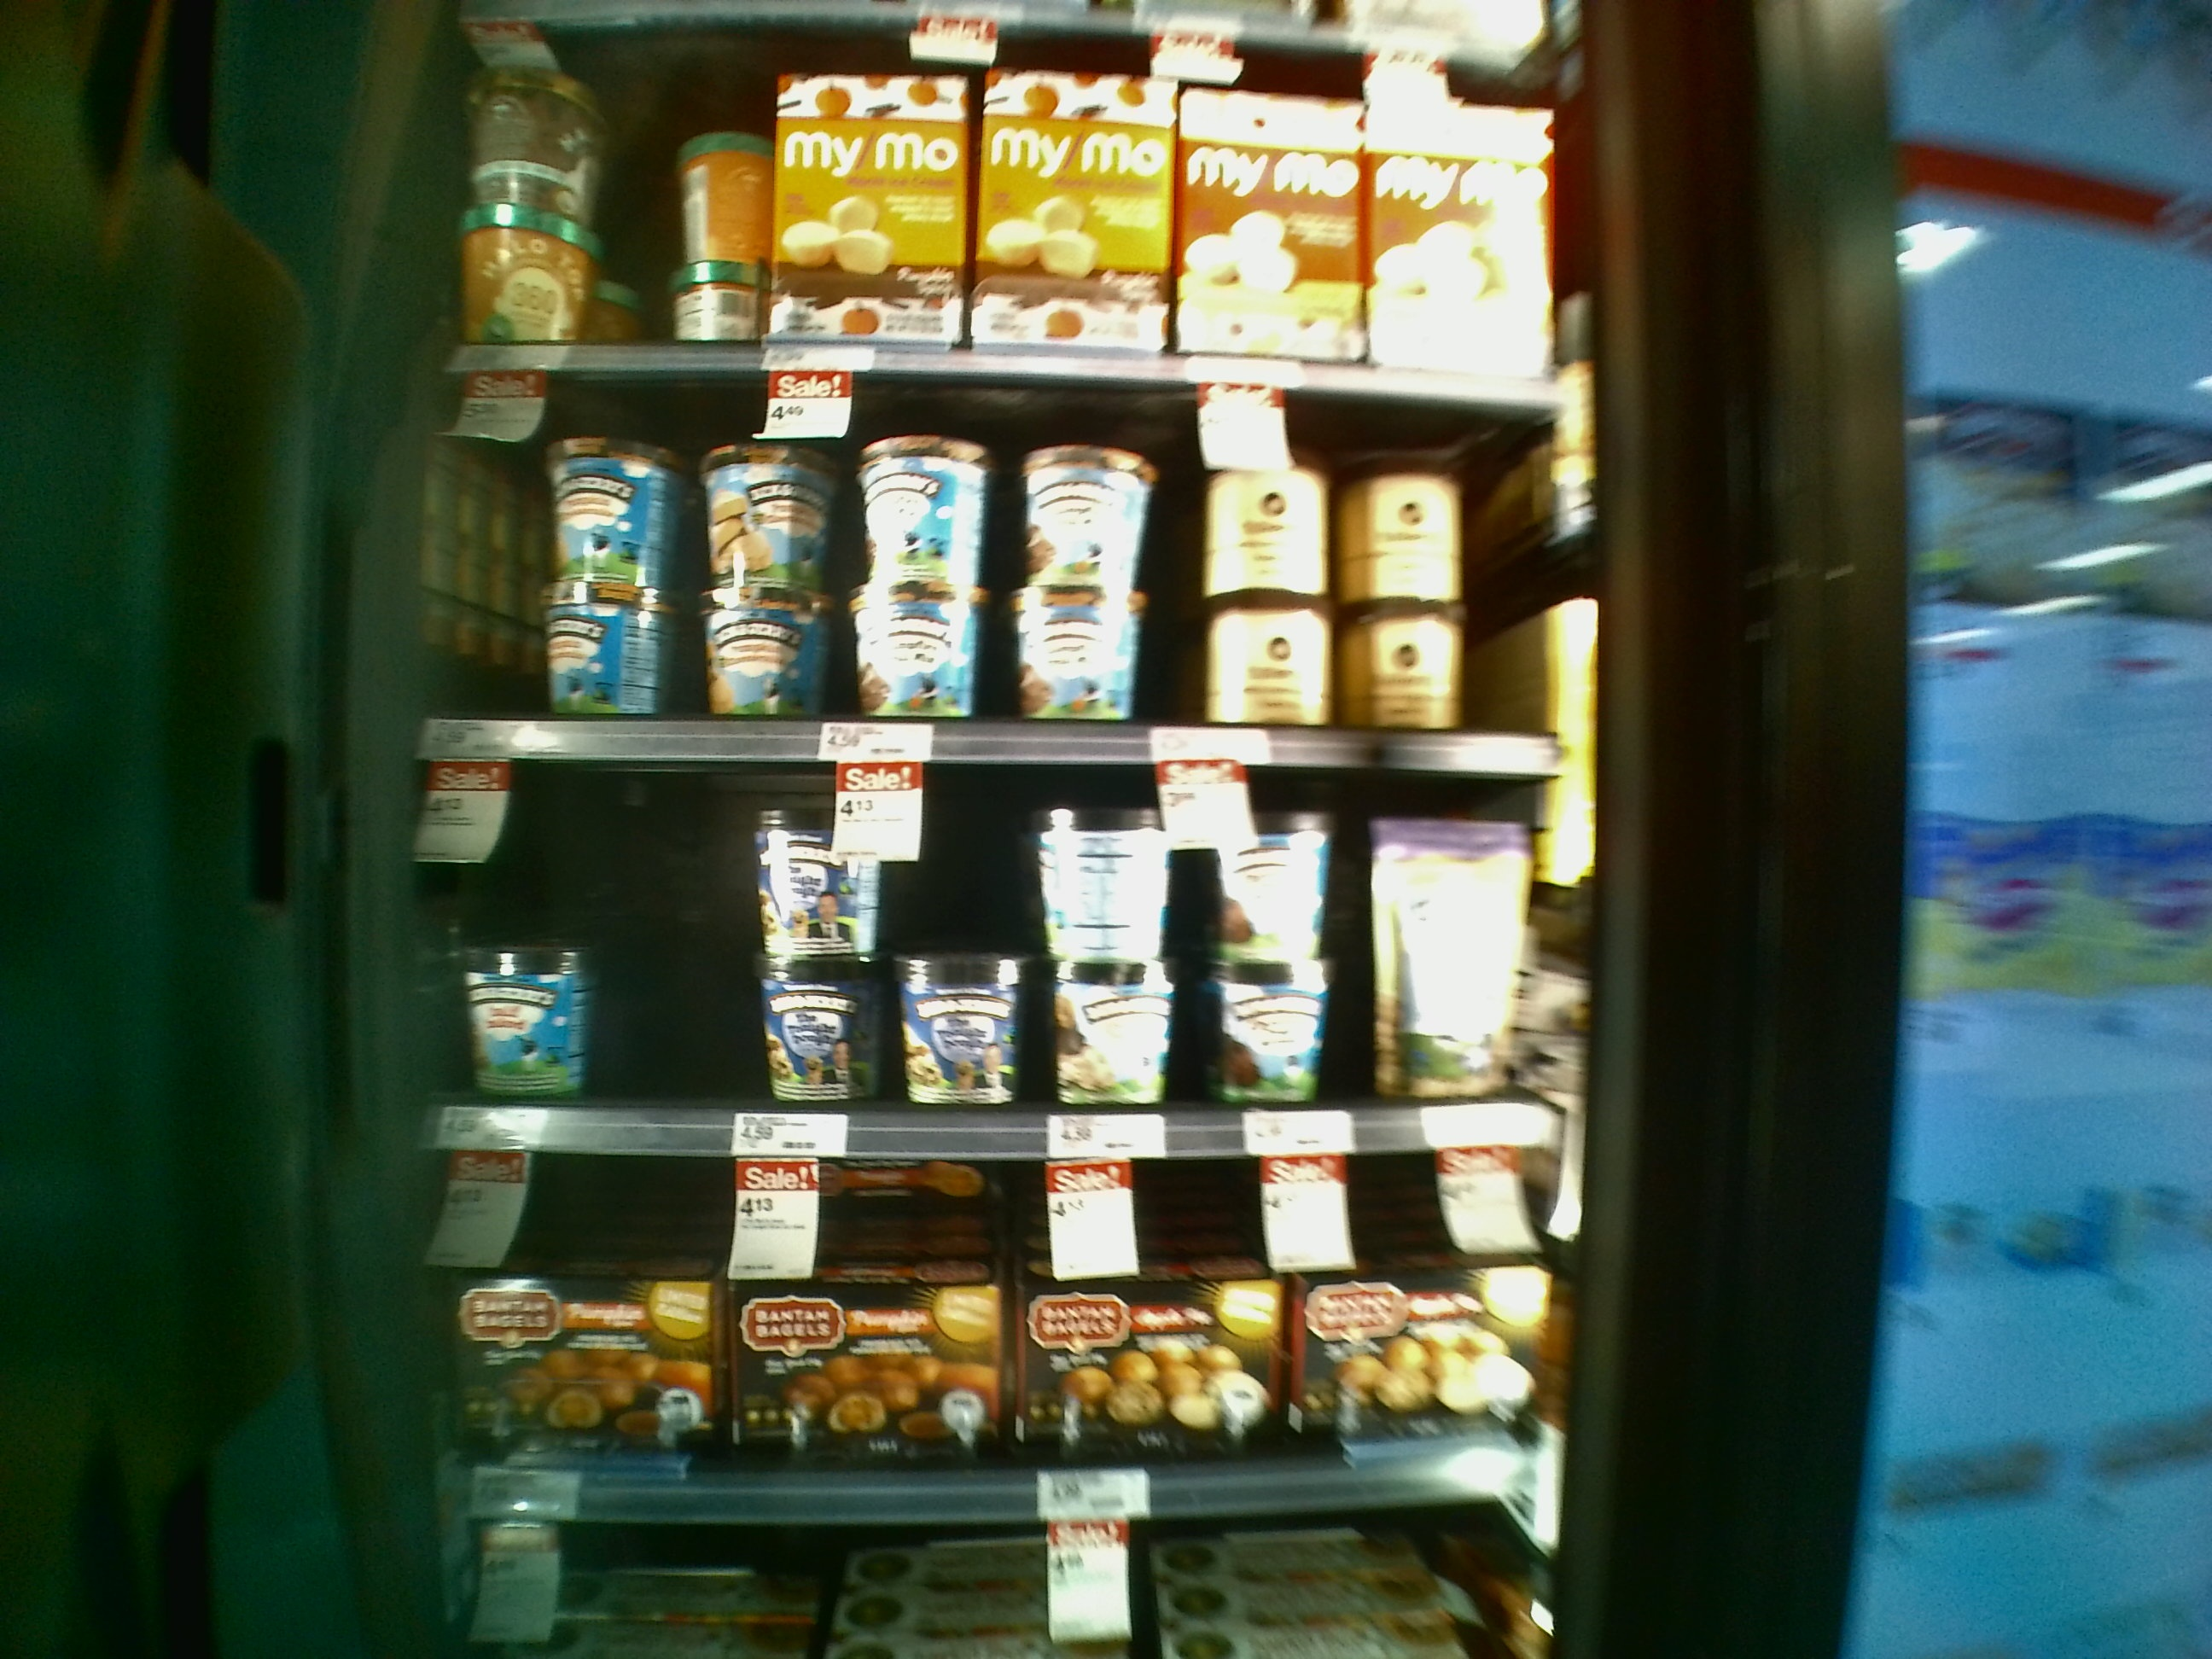shelf: (397, 746, 1588, 1169), (415, 368, 1575, 788), (387, 1140, 1578, 1518)
